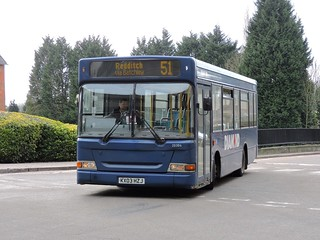bus: (75, 55, 257, 191)
